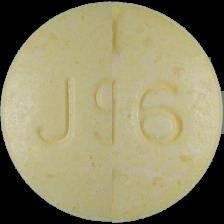51138-044: (0, 0, 224, 224)
